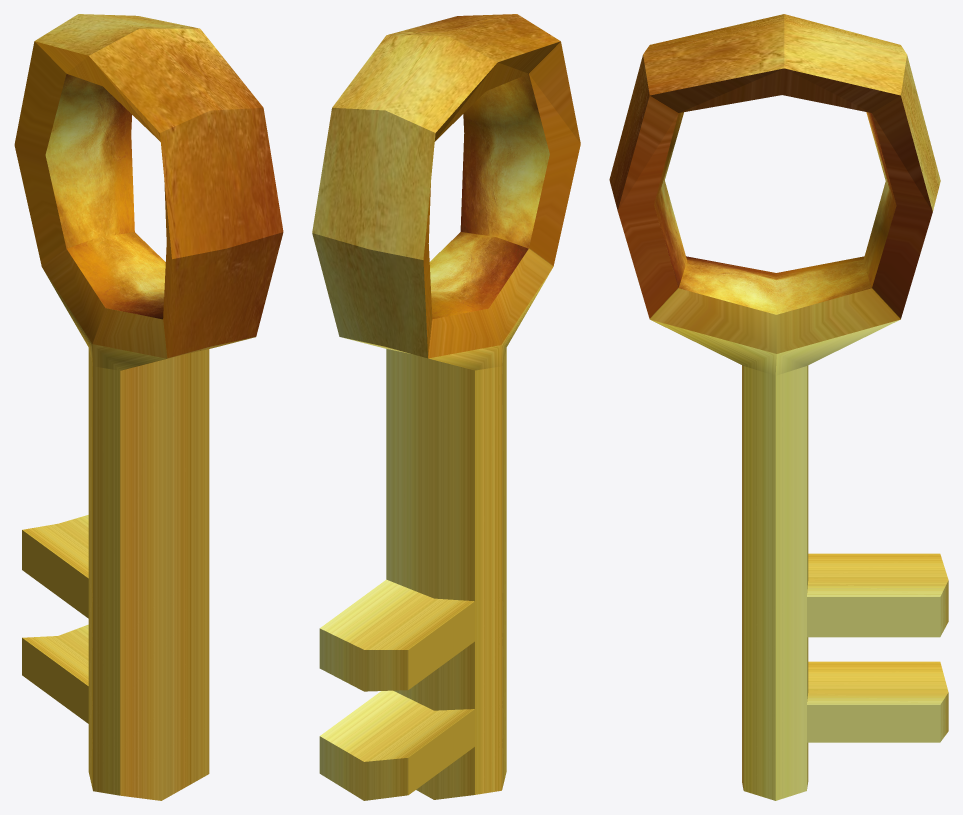
File: key.obj
The picture shows the model from 3 angles, left to right: view 1: azimuth 30°, elevation 25°; view 2: azimuth 150°, elevation 25°; view 3: azimuth 270°, elevation 25°; orthographic projection.
Parts seen in each view (by area): view 1: key; view 2: key; view 3: key.
Part boxes in pixels (x1,y1,x2,y2): key: (14,14,283,800); key: (312,14,580,800); key: (609,14,948,800).
Bounding box in the file's own units: 0.1246 × 0.8129 × 0.328.
